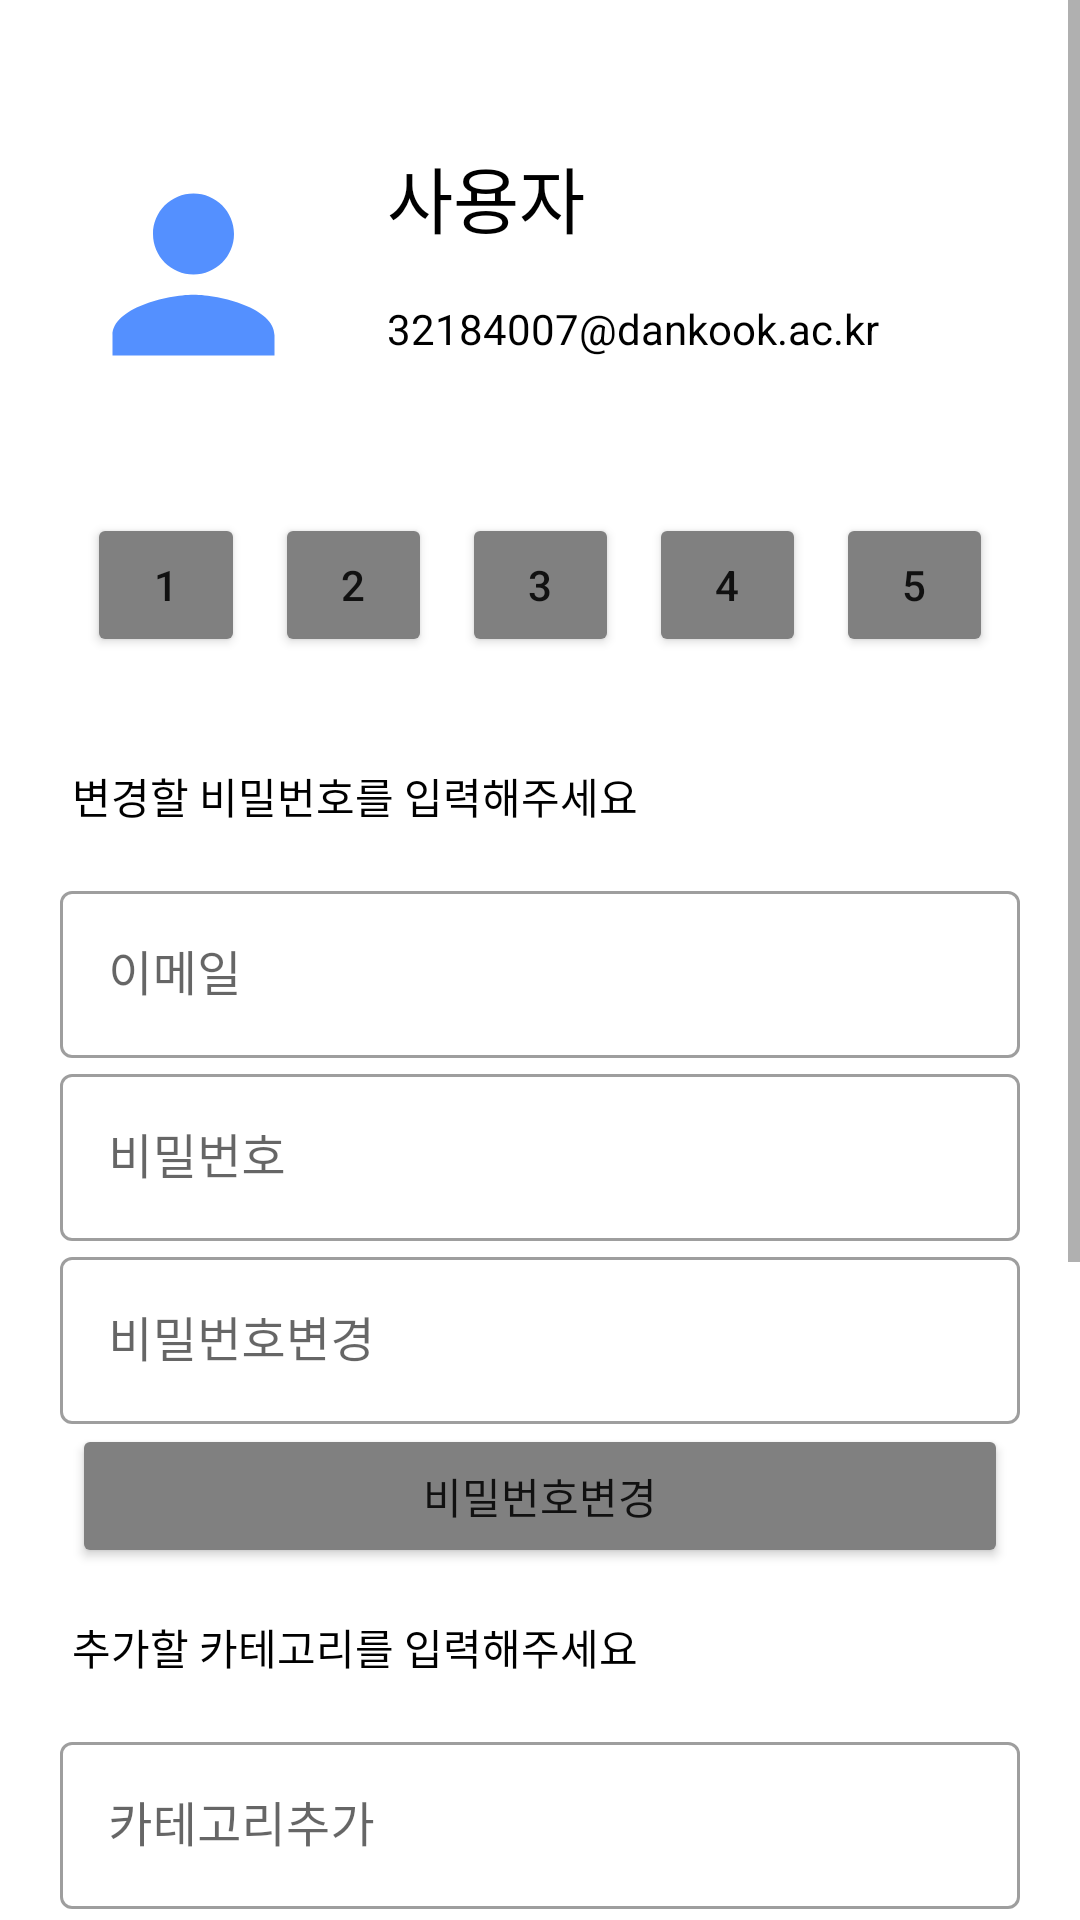

Screen size 1080 × 1920. Icon name, then its center in pixels as point (x, y):
person: point (193, 274)
